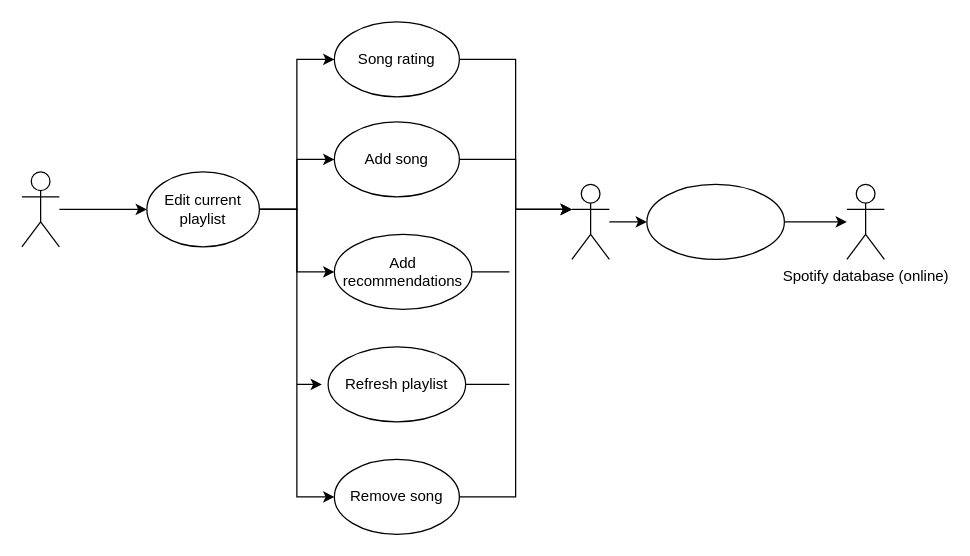
Image size: 970x556. Some labels were removed from this diagram. The centre of each missing label's shape, as x and y in pixels:
"Local database (.db)" goes at pixel 590 221.
"Update playlist on Spotify" goes at pixel 715 221.
"User" goes at pixel 40 209.
